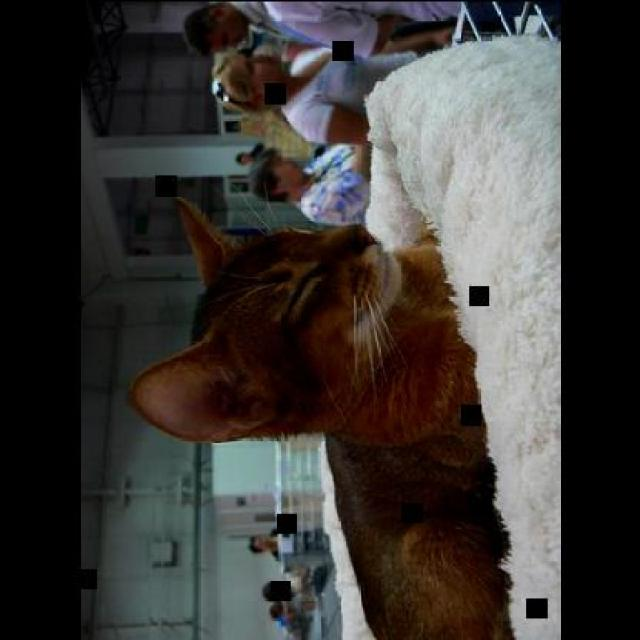unauthorized: (126, 194, 525, 638)
